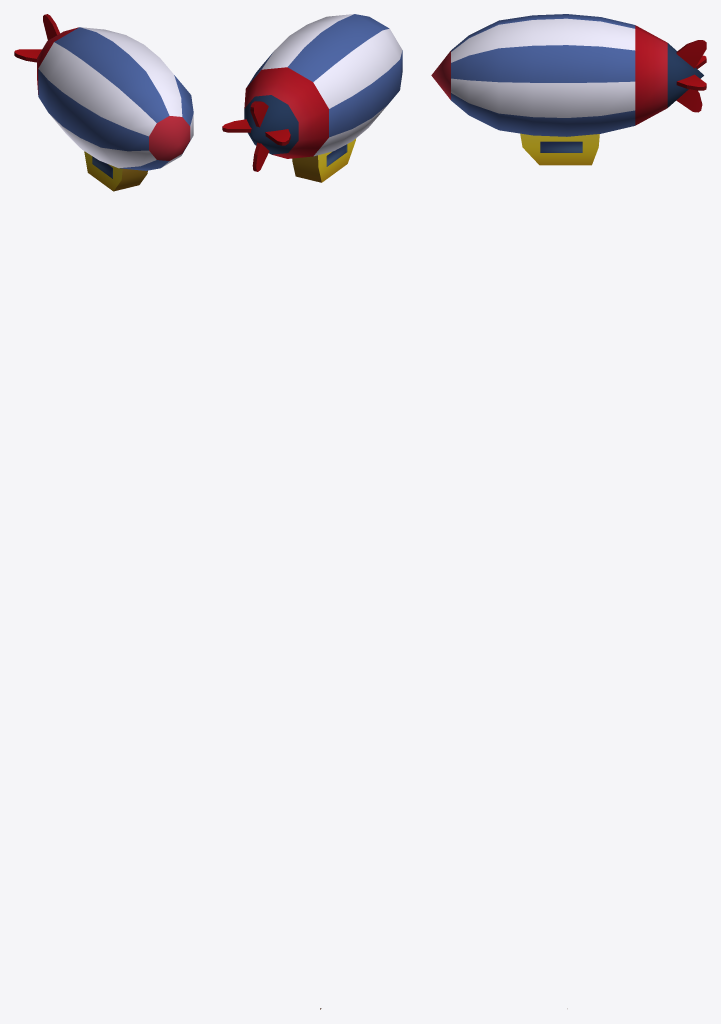
File: 1.100_SanFrancisco_extra_03.glb
3 renders of one model, left to right at view 1: azimuth 30°, elevation 25°; view 2: azimuth 150°, elevation 25°; view 3: azimuth 270°, elevation 25°, orthographic. The views are drawn at different scales.
Parts seen in each view (by area): view 1: 1.100_SanFrancisco_extra_03; view 2: 1.100_SanFrancisco_extra_03; view 3: 1.100_SanFrancisco_extra_03.
Part boxes in pixels (x1,y1,x2,y2): 1.100_SanFrancisco_extra_03: [14, 14, 193, 191]; 1.100_SanFrancisco_extra_03: [222, 14, 402, 1009]; 1.100_SanFrancisco_extra_03: [431, 14, 706, 1008].
Size of the model in its own units: 60.44 by 555 by 140.
Materials: 1 (1 with a texture image).
